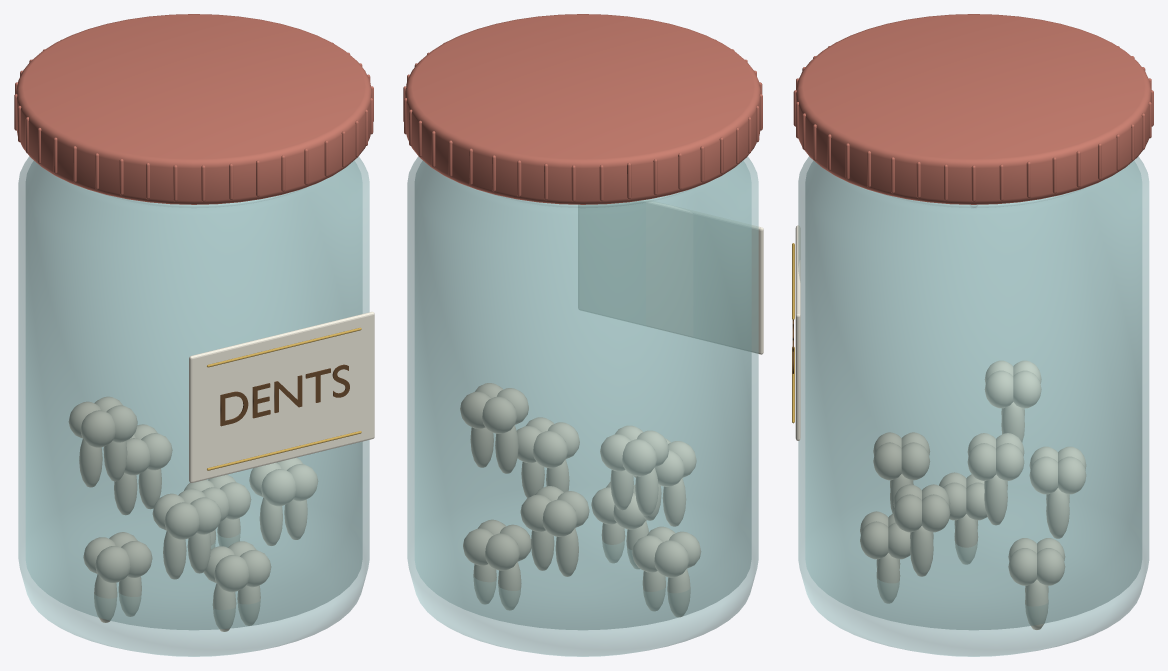
Rendered from jar_teeth.glb.
The picture shows the model from 3 angles, left to right: view 1: azimuth 30°, elevation 25°; view 2: azimuth 150°, elevation 25°; view 3: azimuth 270°, elevation 25°; orthographic projection.
Parts seen in each view (by area): view 1: Hollow_jar_glass, Separate_screw_lid, Cream_paper_label, Label_DENTS, Molar_crown_cusp.029, Molar_crown_cusp.021, Molar_crown_cusp.013, Molar_crown_cusp.001, Molar_crown_cusp.009, Molar_root.014, Molar_root.010, Molar_root.006 (+24 smaller); view 2: Hollow_jar_glass, Separate_screw_lid, Cream_paper_label, Molar_crown_cusp.004, Molar_crown_cusp.028, Molar_crown_cusp.008, Molar_crown_cusp.012, Molar_crown_cusp.016, Molar_crown_cusp.024, Molar_root.014, Molar_root.012, Molar_root.010 (+28 smaller); view 3: Hollow_jar_glass, Separate_screw_lid, Cream_paper_label, Molar_root.009, Molar_root.007, Molar_root.013, Molar_root.003, Molar_root.005, Molar_root.001, Molar_crown_cusp.031, Molar_crown_cusp.022, Molar_crown_cusp.003 (+15 smaller).
Boxes of the visible parts, x1,y1,x2,y2 form: Hollow_jar_glass: (18,156,369,656); Separate_screw_lid: (16,14,371,204); Cream_paper_label: (189,312,374,482); Label_DENTS: (220,364,349,426); Molar_crown_cusp.029: (80,410,115,447); Molar_crown_cusp.021: (164,502,199,539); Molar_crown_cusp.013: (261,469,295,506); Molar_crown_cusp.001: (214,555,248,592); Molar_crown_cusp.009: (95,546,130,582); Molar_root.014: (79,439,102,487); Molar_root.010: (163,531,186,579); Molar_root.006: (259,497,282,545); Hollow_jar_glass: (407,156,758,656); Separate_screw_lid: (405,14,760,204); Cream_paper_label: (578,200,763,354); Molar_crown_cusp.004: (485,533,519,570); Molar_crown_cusp.028: (622,439,656,476); Molar_crown_cusp.008: (654,540,689,577); Molar_crown_cusp.012: (533,431,567,468); Molar_crown_cusp.016: (542,499,577,536); Molar_crown_cusp.024: (482,396,517,433); Molar_root.014: (635,467,658,516); Molar_root.012: (495,425,518,473); Molar_root.010: (662,478,686,526); Hollow_jar_glass: (798,156,1149,656); Separate_screw_lid: (796,14,1151,204); Cream_paper_label: (795,225,800,440); Molar_root.009: (1046,488,1069,538); Molar_root.007: (910,526,933,576); Molar_root.013: (984,475,1007,525); Molar_root.003: (1025,579,1048,630); Molar_root.005: (954,514,977,564); Molar_root.001: (876,553,900,603); Molar_crown_cusp.031: (984,370,1013,408); Molar_crown_cusp.022: (901,442,929,480); Molar_crown_cusp.003: (860,521,888,559).
Bounding box in the file's own units: 0.1518 × 0.2395 × 0.1525.
